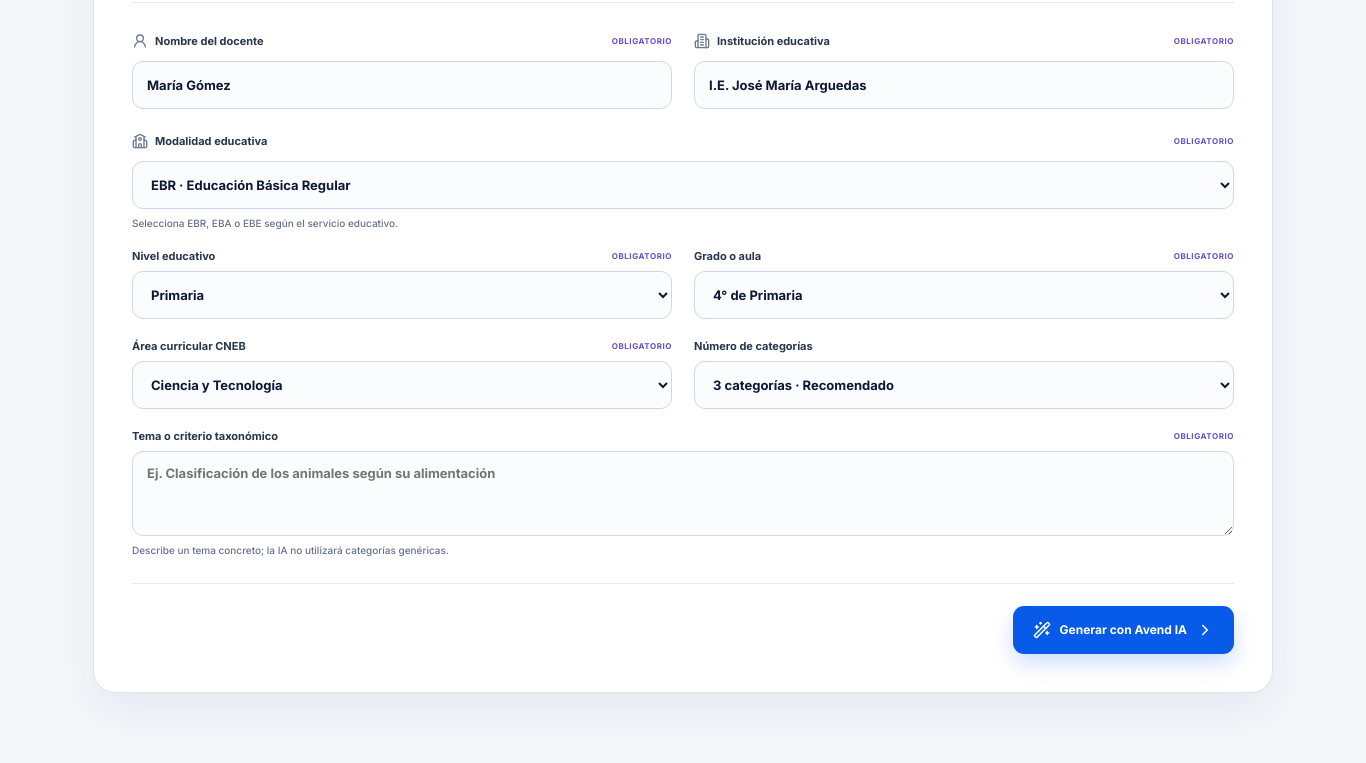
Test: WordGroupingTool › generates, reviews and starts the interactive activity
(page scrolled)
Type "Los sistemas del cuerpo humano" into the text box labelled "Tema o criterio taxonómico" at x=683, y=493, box [132,451,1234,536]
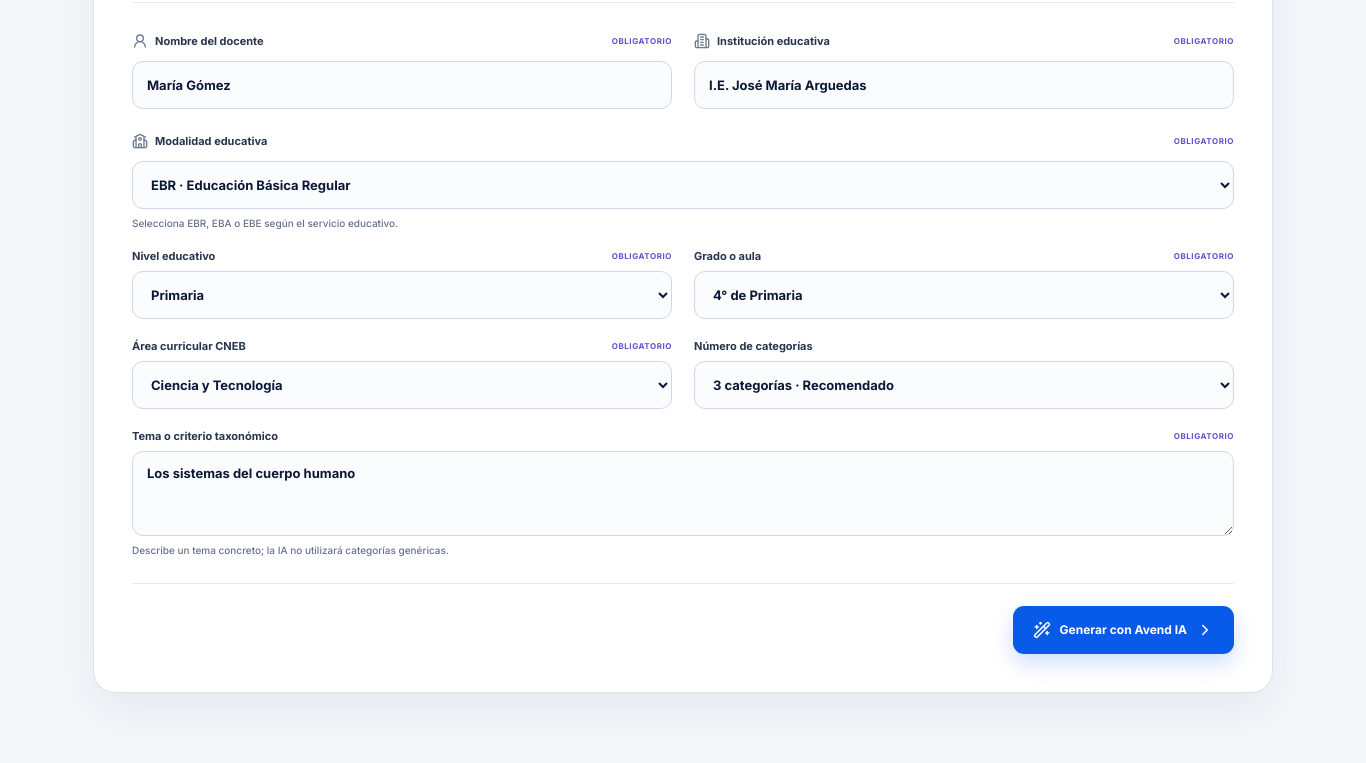
Select "2 categorías · Comparación" in the dropdown labelled "Número de categorías" at x=964, y=385, box [694,361,1234,409]
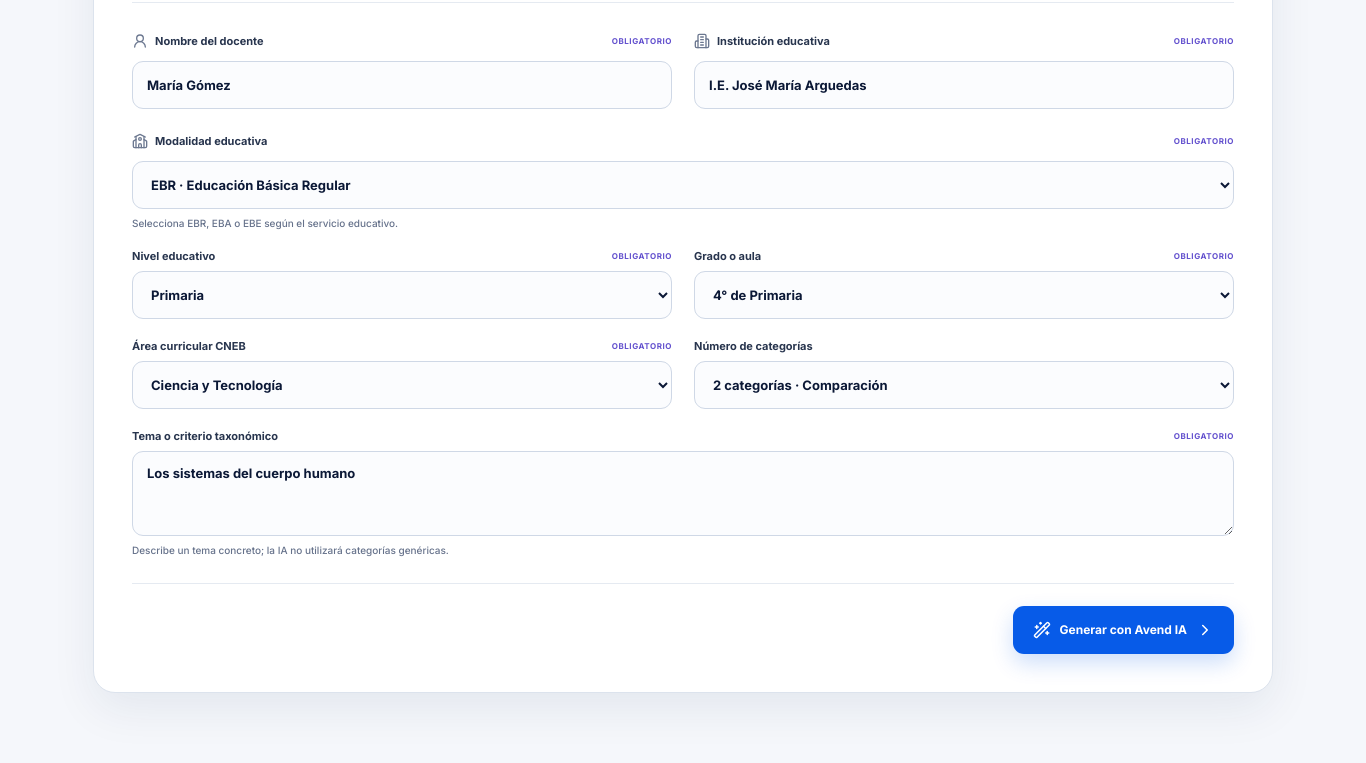
Click the button "Generar con Avend IA" at x=1123, y=630, box [1013,606,1234,654]
(page scrolled)
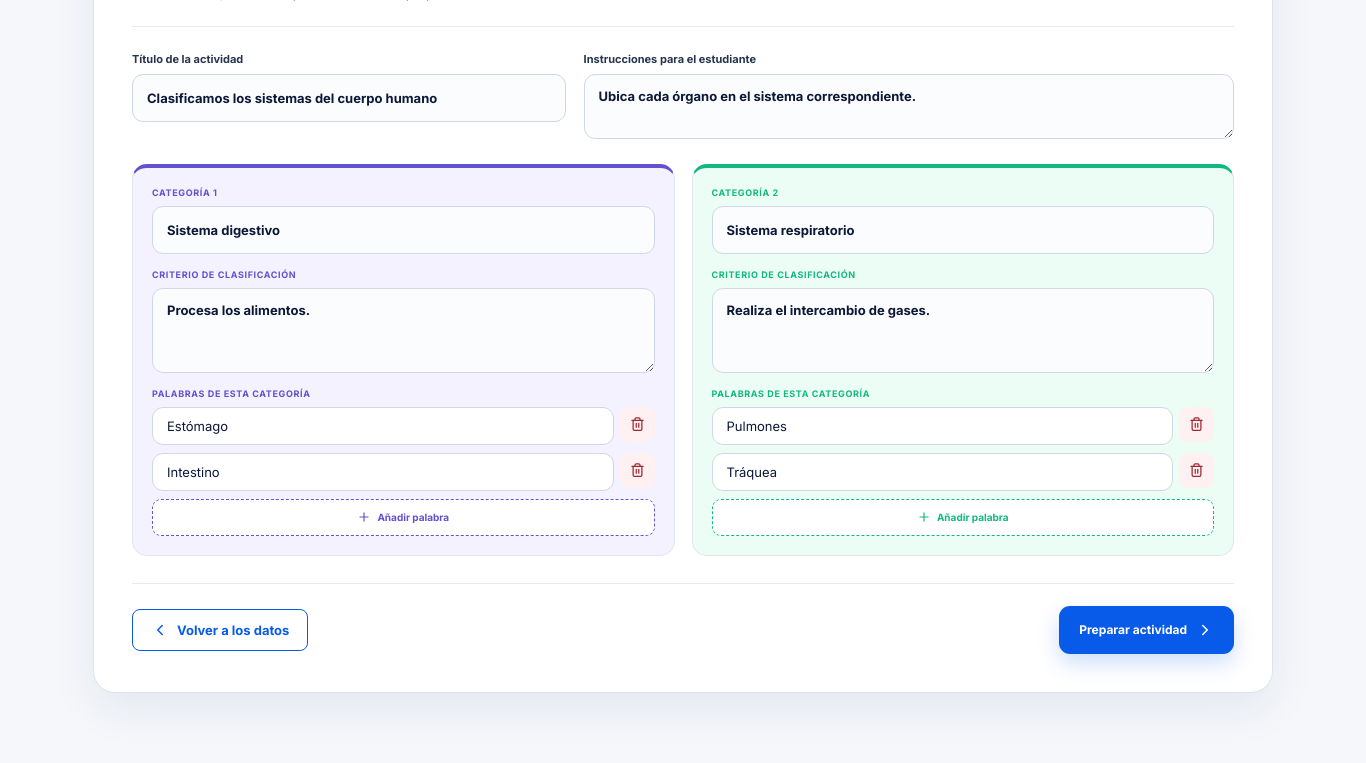
Click the button "Preparar actividad" at x=1147, y=630, box [1059,606,1234,654]
(page scrolled)
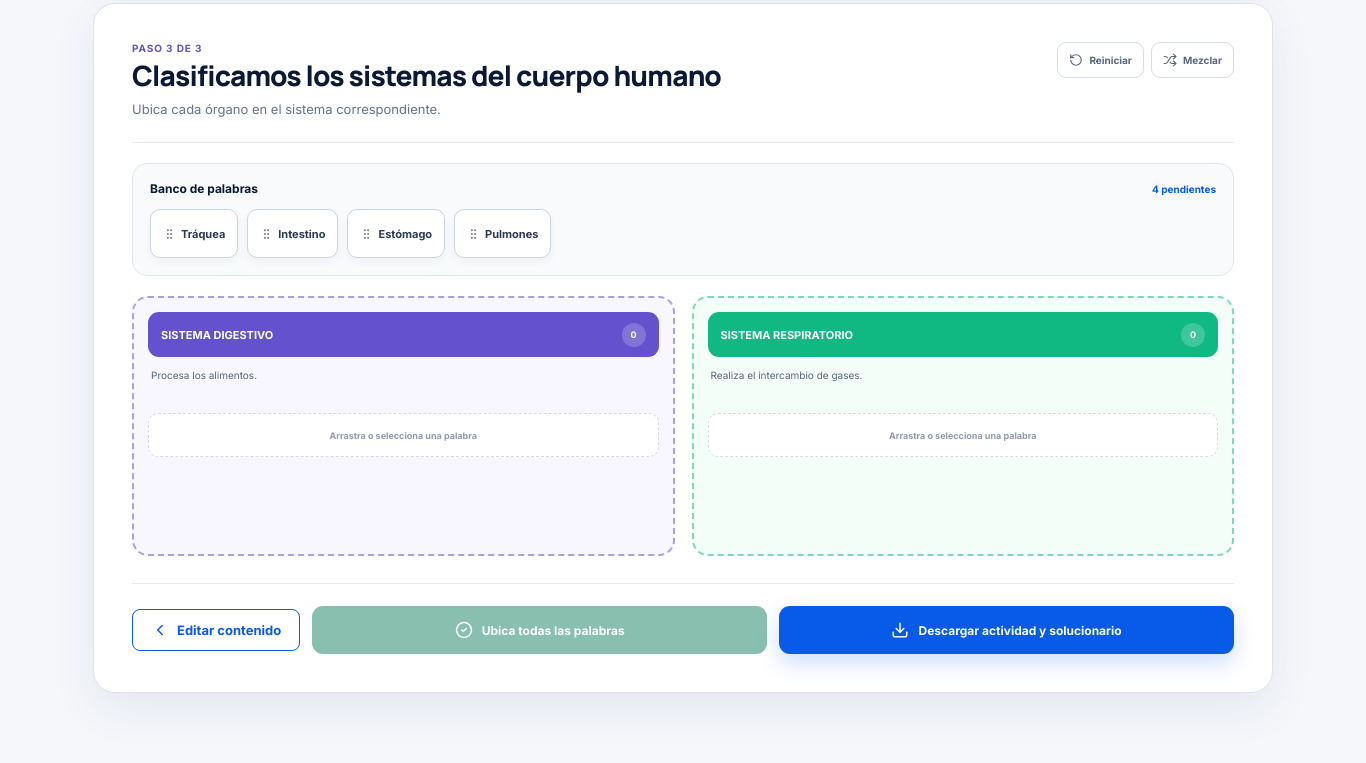
Now the heading "Clasificamos los sistemas del cuerpo humano" is shown, box [132,59,721,92]
Now the button "Estómago" is shown, box [348,209,445,258]
Now the button "Ubica todas las palabras" is disabled, box [312,606,767,654]
